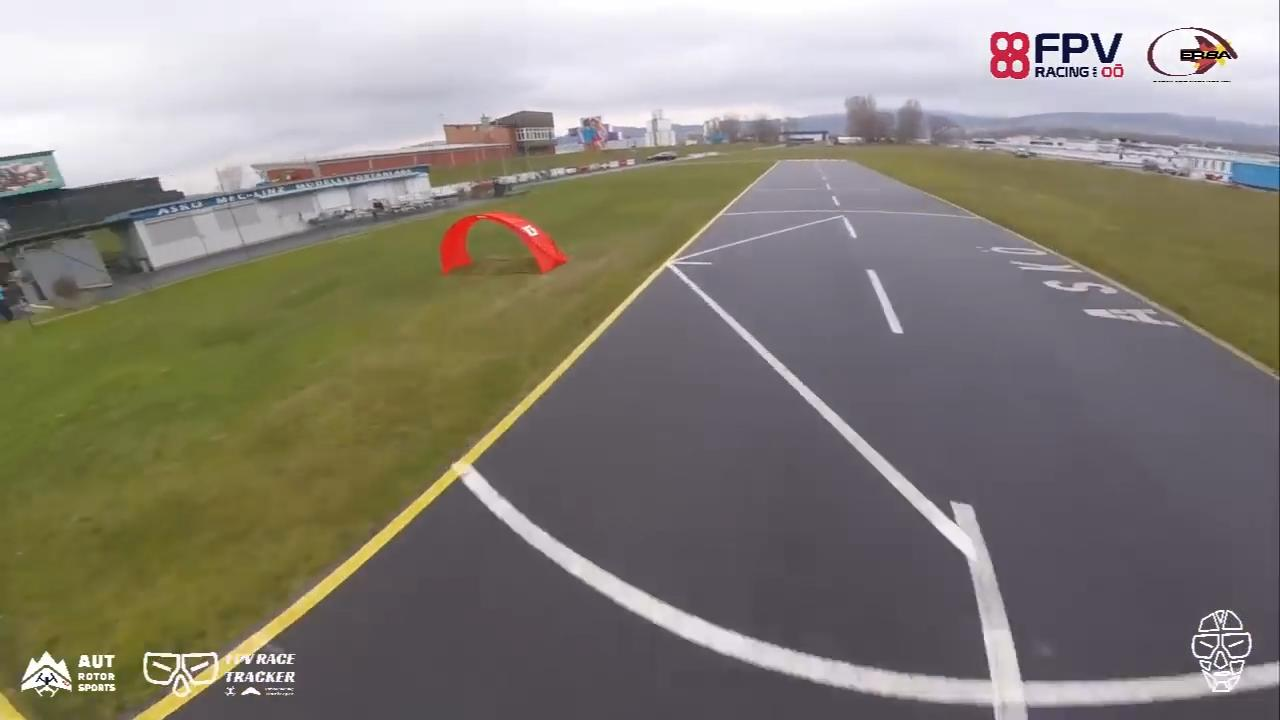gate: (435, 210, 566, 279)
